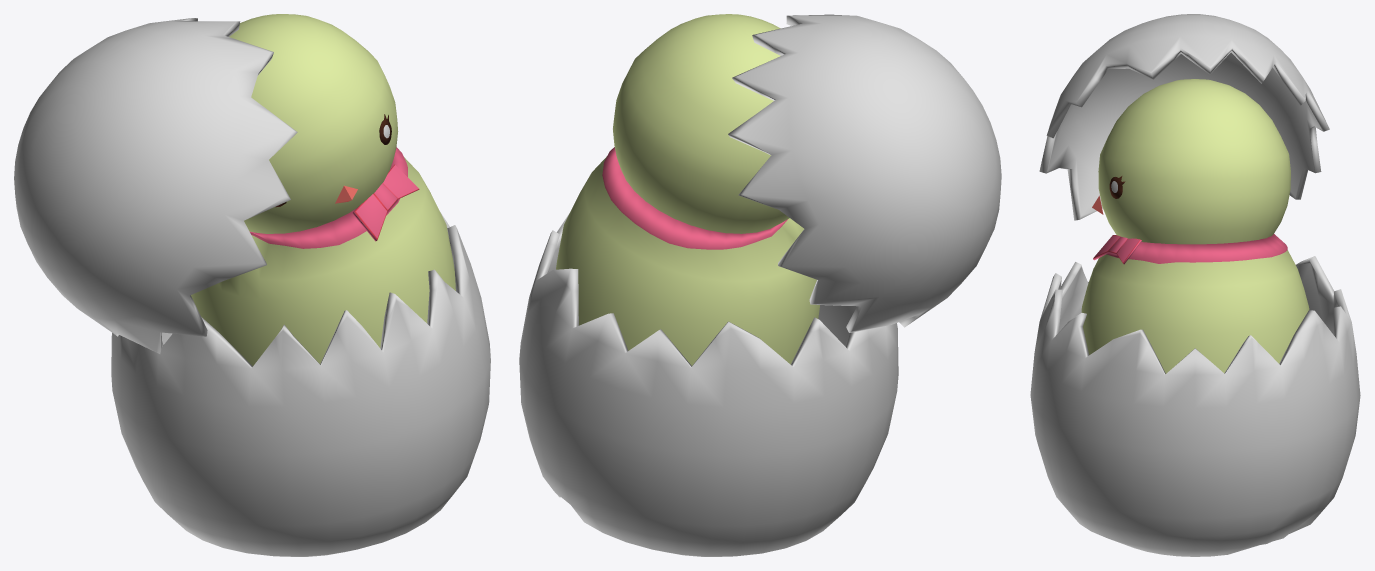
File: suppi.fbx
3 views of the same model, side by side, from view 1: azimuth 30°, elevation 25°; view 2: azimuth 150°, elevation 25°; view 3: azimuth 270°, elevation 25° (orthographic). The views are drawn at different scales.
Visible parts, largest first — view 1: Sphere, Sphere.001; view 2: Sphere, Sphere.001; view 3: Sphere, Sphere.001.
Boxes of the visible parts, box(x1,y1,x2,y2) form: Sphere: box(14, 18, 490, 556); Sphere.001: box(191, 14, 455, 365); Sphere: box(519, 14, 1001, 556); Sphere.001: box(556, 14, 819, 365); Sphere: box(1030, 14, 1360, 556); Sphere.001: box(1081, 79, 1309, 373).
Bounding box in the file's own units: 508 × 592 × 387.
